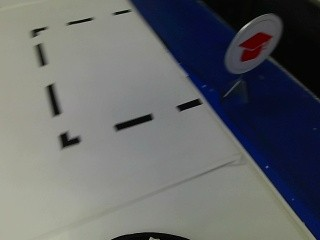school: (224, 14, 280, 74)
